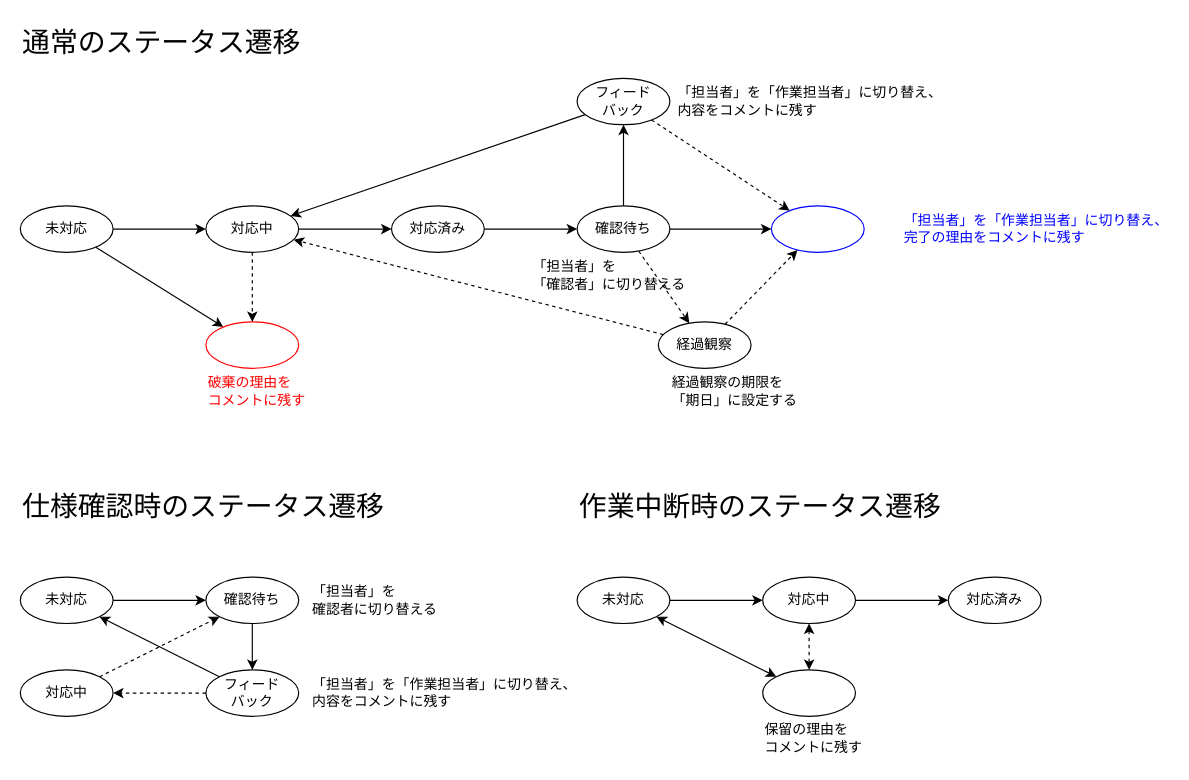
Image size: 1189x780. Some labels were removed from this diagram. Each missing label, with the box of its shape:
保留: (762, 669, 855, 716)
完了: (770, 205, 864, 252)
破棄: (205, 321, 299, 368)
